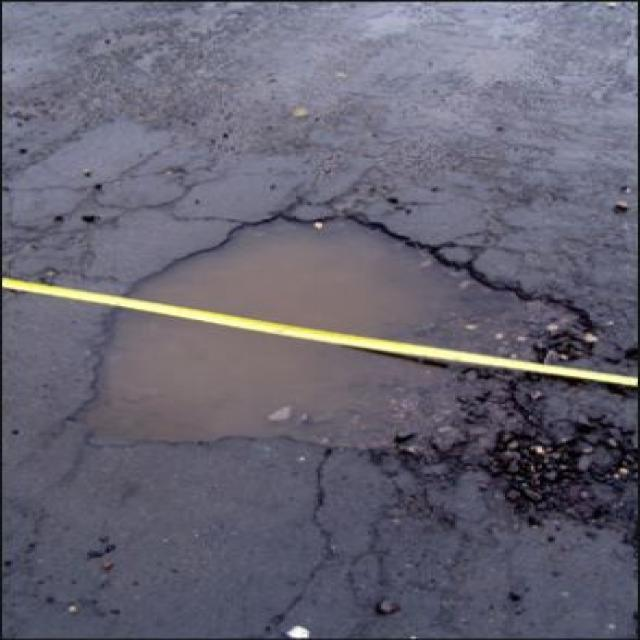Pothole: (71, 192, 596, 473)
